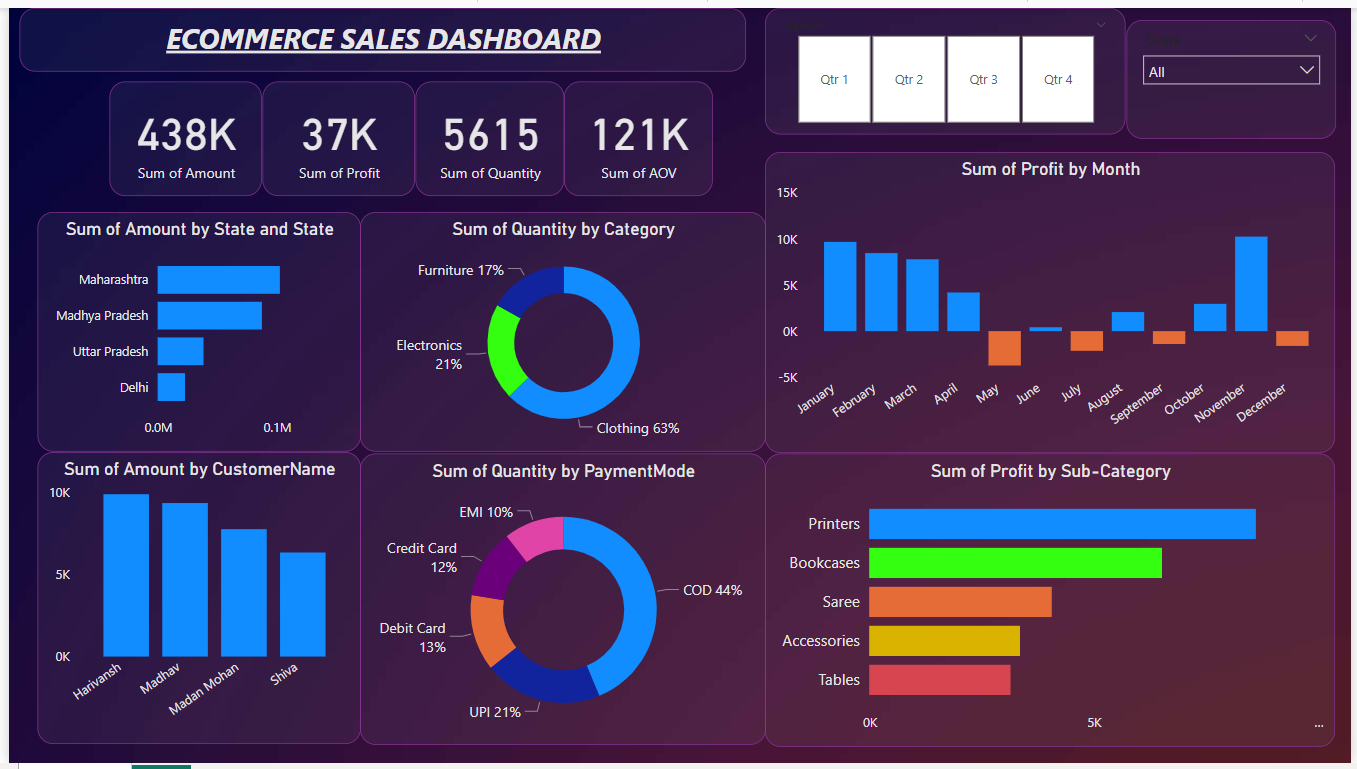

What the dashboard file says about the page in this screenshot:
{"tool":"powerbi","page":{"name":"Page 1","canvas":[1280,720],"ordinal":0},"visuals":[{"type":"textbox","box":[9.4,0,693.5,60.5],"z":0},{"type":"columnChart","fields":{"Category":["Orders.Order Date.Variation.Date Hierarchy.Month"],"Y":["Details.Profit"]},"box":[721.9,138,544.3,287.2],"z":1000},{"type":"barChart","fields":{"Category":["Details.Sub-Category"],"Y":["Details.Profit"]},"box":[721.9,425.2,544.3,279.7],"z":2000},{"type":"donutChart","fields":{"Category":["Details.Category"],"Y":["Details.Quantity"]},"box":[334.5,194.6,387.4,228.7],"z":3000},{"type":"donutChart","fields":{"Y":["Details.Quantity"],"Category":["Details.PaymentMode"]},"box":[334.5,425.2,387.4,277.8],"z":4000},{"type":"card","fields":{"Values":["Details.Amount"]},"box":[96.4,69.9,145.5,109.6],"z":5000},{"type":"card","fields":{"Values":["Details.Profit"]},"box":[241.9,69.9,145.5,109.6],"z":6000},{"type":"card","fields":{"Values":["Details.Quantity"]},"box":[387.4,69.9,141.7,109.6],"z":7000},{"type":"card","fields":{"Values":["Details.AOV"]},"box":[529.1,69.9,141.7,109.6],"z":8000},{"type":"barChart","fields":{"Series":["Orders.State"],"Y":["Details.Amount"],"Category":["Orders.State"]},"box":[26.7,195,308.3,228.3],"z":9000},{"type":"columnChart","fields":{"Category":["Orders.CustomerName"],"Y":["Details.Amount"]},"box":[26.7,423.3,308.3,278.3],"z":10000},{"type":"slicer","fields":{"Values":["Orders.Order Date.Variation.Date Hierarchy.Quarter"]},"box":[721.9,0,343.9,120.9],"z":11000},{"type":"slicer","fields":{"Values":["Orders.State"]},"box":[1065.8,11.3,200.3,113.4],"z":11001}]}

Visuals, with their boxes in screenshot pixels (x1, y1, x2, y2), scaled from the page's 1280x720 canvas onto the 1357x769 screenshot:
textbox: box(10, 0, 745, 65)
columnChart - Orders.Order Date.Variation.Date Hierarchy.Month x Details.Profit: box(765, 147, 1342, 454)
barChart - Details.Sub-Category x Details.Profit: box(765, 454, 1342, 753)
donutChart - Details.Category x Details.Quantity: box(355, 208, 765, 452)
donutChart - Details.Quantity x Details.PaymentMode: box(355, 454, 765, 751)
card - Details.Amount: box(102, 75, 256, 192)
card - Details.Profit: box(256, 75, 411, 192)
card - Details.Quantity: box(411, 75, 561, 192)
card - Details.AOV: box(561, 75, 711, 192)
barChart - Orders.State x Details.Amount: box(28, 208, 355, 452)
columnChart - Orders.CustomerName x Details.Amount: box(28, 452, 355, 749)
slicer - Orders.Order Date.Variation.Date Hierarchy.Quarter: box(765, 0, 1130, 129)
slicer - Orders.State: box(1130, 12, 1342, 133)
